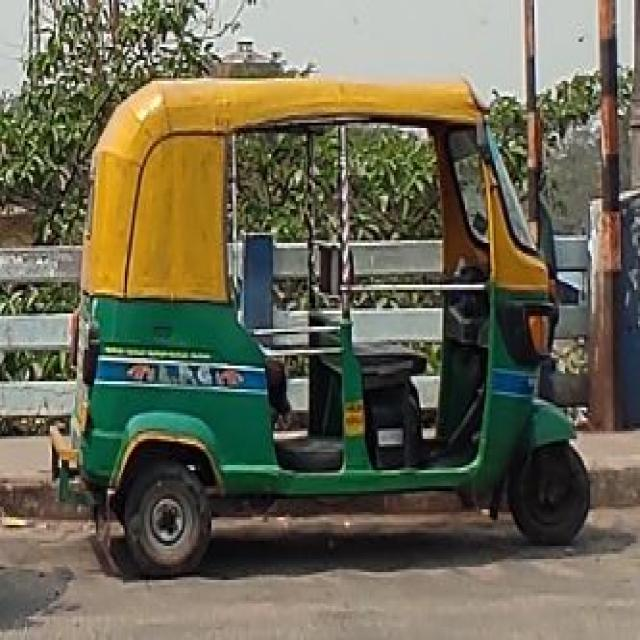autorickshaw: (55, 72, 596, 590)
